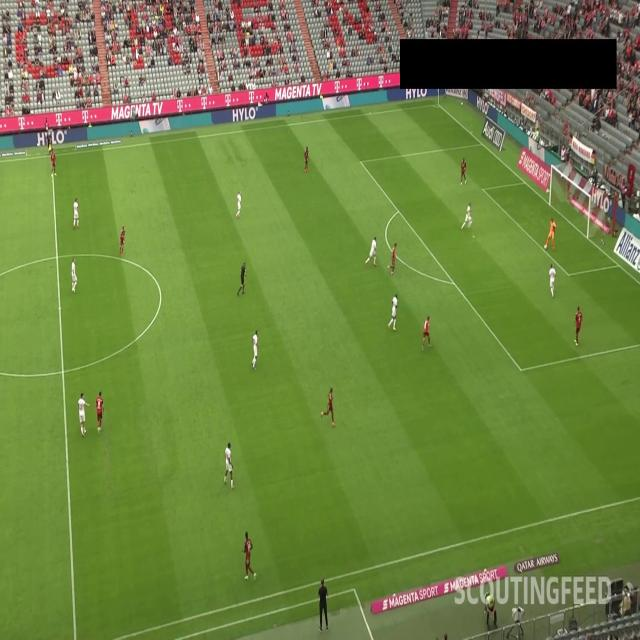ball: (543, 240, 549, 252)
player: (240, 528, 258, 584), (92, 388, 107, 437), (75, 388, 88, 440), (321, 384, 336, 429), (544, 211, 560, 250), (224, 442, 236, 491), (572, 301, 584, 348), (67, 254, 80, 296), (248, 325, 260, 370), (419, 312, 432, 353), (386, 240, 400, 278), (460, 198, 474, 233), (364, 232, 378, 267), (387, 291, 399, 331), (546, 262, 558, 300), (301, 139, 312, 173), (116, 223, 126, 260), (72, 194, 81, 229), (459, 154, 468, 188), (48, 148, 58, 178), (236, 188, 242, 217)
referee: (234, 258, 249, 298), (44, 126, 54, 158)
